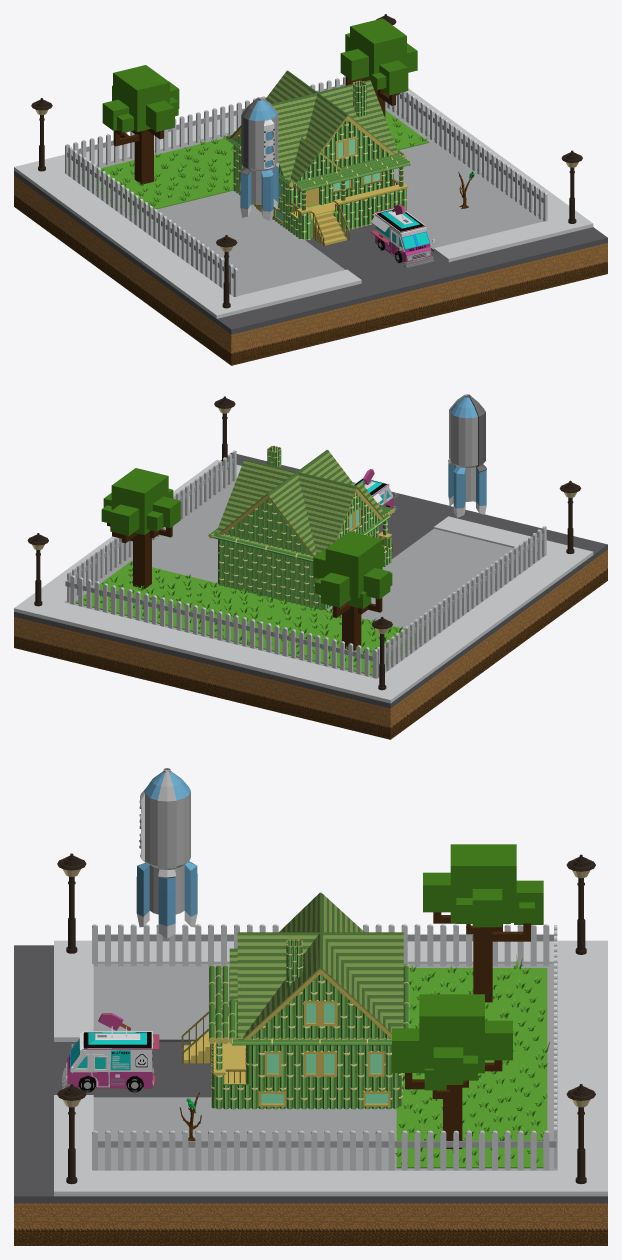
3 views of the same model, one above another, from view 1: azimuth 30°, elevation 25°; view 2: azimuth 150°, elevation 25°; view 3: azimuth 270°, elevation 25° (orthographic). The views are drawn at different scales.
Parts seen in each view (by area): view 1: Cube.004, Cube.1327, OBJRANDOM_ROCKETSHIP, VEHICLES_ICE_CREAM_TRUCK; view 2: Cube.004, Cube.1327, OBJRANDOM_ROCKETSHIP, VEHICLES_ICE_CREAM_TRUCK; view 3: Cube.004, Cube.1327, OBJRANDOM_ROCKETSHIP, VEHICLES_ICE_CREAM_TRUCK.
Boxes of the visible parts, <box> form: Cube.004: <box>14,14,607,365</box>; Cube.1327: <box>225,70,410,246</box>; OBJRANDOM_ROCKETSHIP: <box>240,97,279,220</box>; VEHICLES_ICE_CREAM_TRUCK: <box>370,204,434,267</box>; Cube.004: <box>14,396,607,739</box>; Cube.1327: <box>208,445,394,610</box>; OBJRANDOM_ROCKETSHIP: <box>448,394,486,517</box>; VEHICLES_ICE_CREAM_TRUCK: <box>354,469,397,510</box>; Cube.004: <box>14,844,607,1245</box>; Cube.1327: <box>181,892,409,1109</box>; OBJRANDOM_ROCKETSHIP: <box>136,768,197,938</box>; VEHICLES_ICE_CREAM_TRUCK: <box>62,1013,159,1092</box>.
Size of the model in its own units: 4000 by 2322 by 4000.
42 materials, 4 textured.
